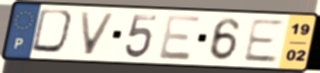5: (122, 13, 160, 59)
6: (208, 16, 245, 63)
D: (28, 7, 79, 57)
E: (157, 13, 204, 62), (240, 17, 287, 64)
V: (77, 10, 119, 57)
